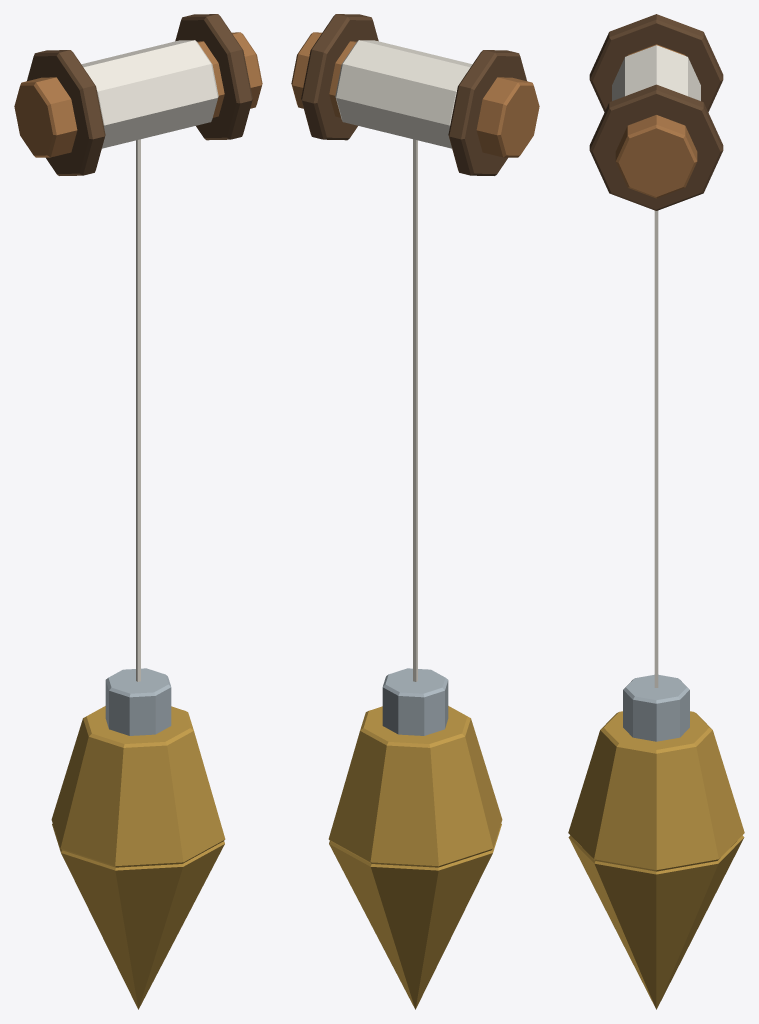
Rendered from b06_plumb_bob.glb.
3 views of the same model, side by side, from view 1: azimuth 30°, elevation 25°; view 2: azimuth 150°, elevation 25°; view 3: azimuth 270°, elevation 25° (orthographic).
Parts seen in each view (by area): view 1: b06_plumb_bob; view 2: b06_plumb_bob; view 3: b06_plumb_bob.
Boxes of the visible parts, bbox=[...] form: b06_plumb_bob: bbox=[14, 14, 262, 1009]; b06_plumb_bob: bbox=[291, 14, 539, 1009]; b06_plumb_bob: bbox=[568, 14, 744, 1009].
Size of the model in its own units: 0.064 by 0.285 by 0.0476.
